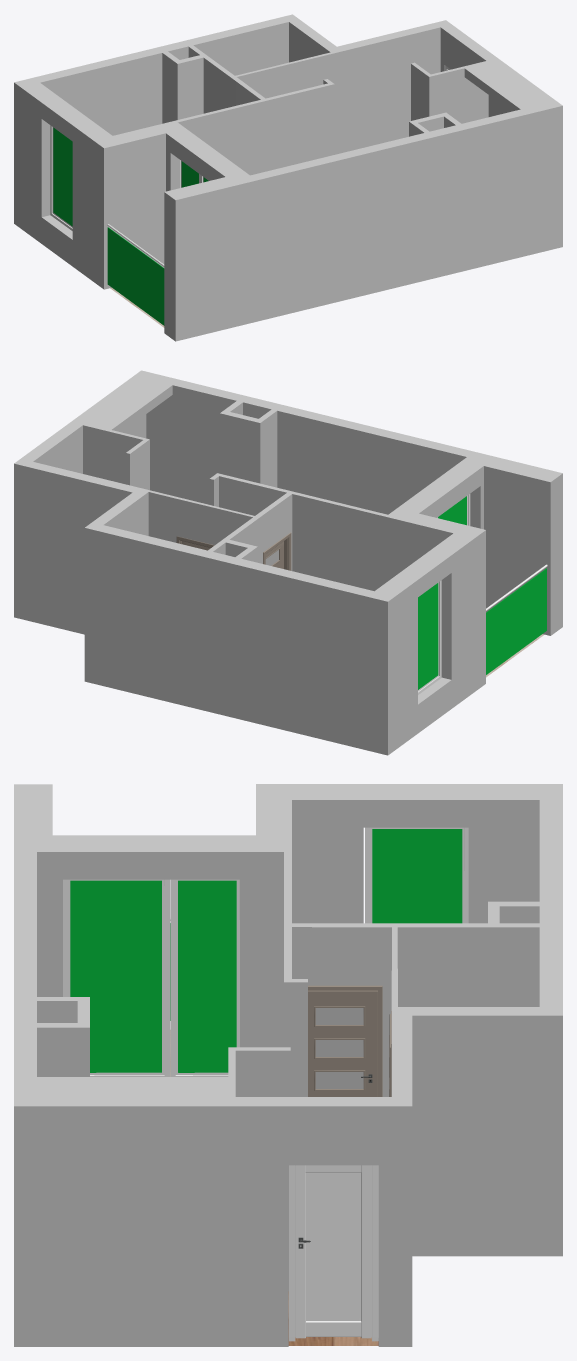
The model's file is house2.obj.
3 views of the same model, one above another, from view 1: azimuth 30°, elevation 25°; view 2: azimuth 150°, elevation 25°; view 3: azimuth 270°, elevation 25° (orthographic). The views are drawn at different scales.
Parts seen in each view (by area): view 1: Plane, Cube.022, Plane.004, Plane.017; view 2: Plane, Cube.022, Plane.004, Plane.017; view 3: Plane, Plane.002, Bilbao, Plane.003, Plane.004, dvere.002, Plane.017, ram.002, Plane.001.
Part boxes in pixels (x1,y1,x2,y2): Plane: (14, 14, 562, 341); Cube.022: (107, 227, 164, 325); Plane.004: (53, 127, 72, 226); Plane.017: (50, 125, 203, 230); Plane: (14, 370, 562, 755); Cube.022: (486, 568, 546, 674); Plane.004: (418, 583, 438, 689); Plane.017: (418, 494, 470, 694); Plane: (14, 784, 562, 1346); Plane.002: (70, 880, 161, 1072); Bilbao: (289, 1165, 378, 1341); Plane.003: (178, 880, 236, 1072); Plane.004: (372, 829, 462, 923); dvere.002: (308, 990, 377, 1096); Plane.017: (63, 827, 468, 1076); ram.002: (308, 985, 382, 1096); Plane.001: (170, 1030, 378, 1345).
Bounding box in the file's own units: 7.61 × 2.65 × 5.48.
14 materials, 3 textured.
